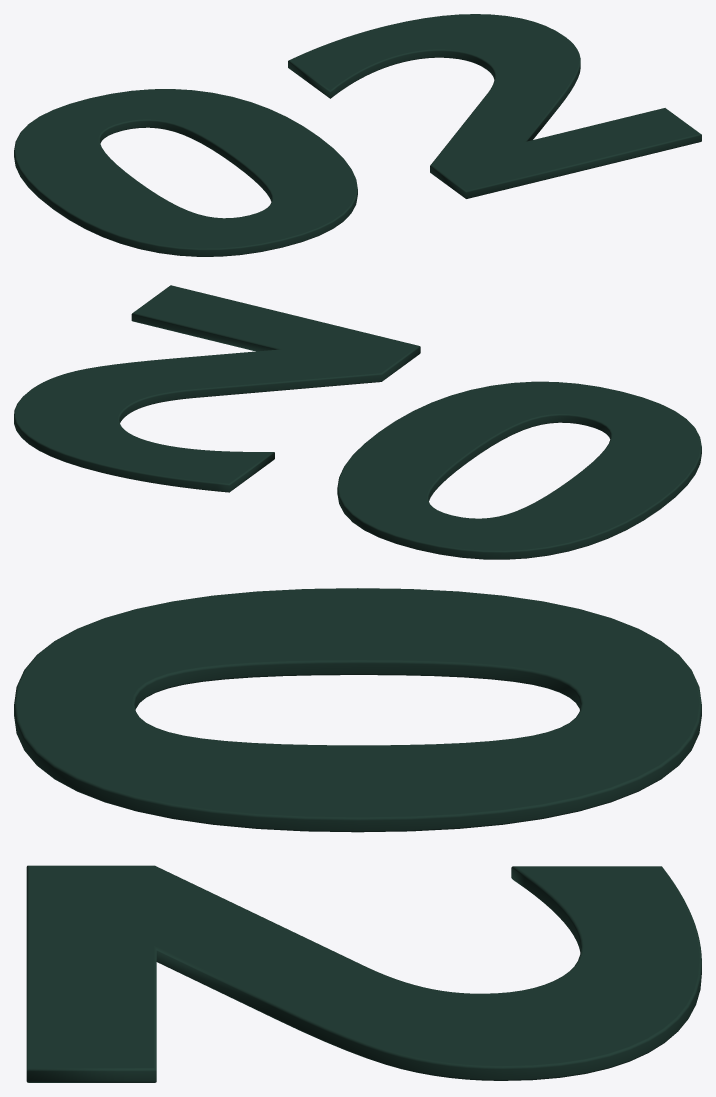
File: SM_EG_Lane_number_228eb14d3f.fbx
3 views of the same model, one above another, from view 1: azimuth 30°, elevation 25°; view 2: azimuth 150°, elevation 25°; view 3: azimuth 270°, elevation 25° (orthographic). The views are drawn at different scales.
Visible parts, largest first — view 1: SM_EG_Lane_number_228eb14d3f; view 2: SM_EG_Lane_number_228eb14d3f; view 3: SM_EG_Lane_number_228eb14d3f.
Boxes of the visible parts, bbox=[...] form: SM_EG_Lane_number_228eb14d3f: bbox=[14, 14, 701, 256]; SM_EG_Lane_number_228eb14d3f: bbox=[14, 285, 701, 559]; SM_EG_Lane_number_228eb14d3f: bbox=[14, 588, 701, 1082].
Bounding box in the file's own units: 30.96 × 18.69 × 0.44.
